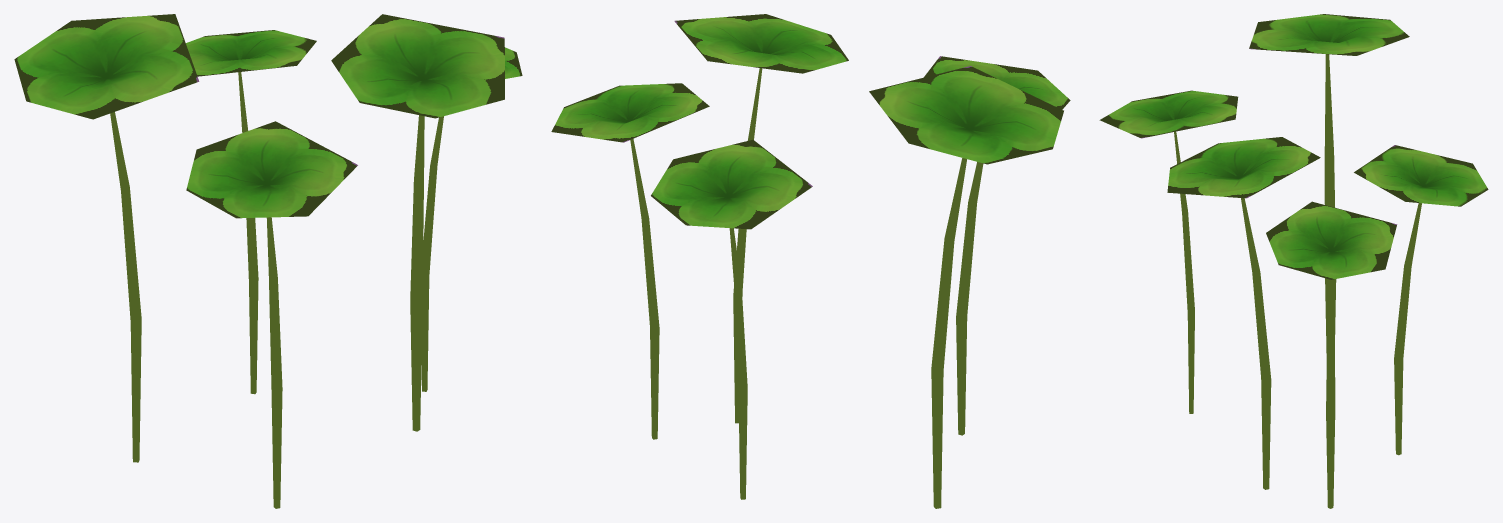
Rendered from flowers_06.fbx.
The picture shows the model from 3 angles, left to right: view 1: azimuth 30°, elevation 25°; view 2: azimuth 150°, elevation 25°; view 3: azimuth 270°, elevation 25°; orthographic projection. The views are drawn at different scales.
Parts seen in each view (by area): view 1: flowers_06; view 2: flowers_06; view 3: flowers_06.
Boxes of the visible parts, x1,y1,x2,y2 form: flowers_06: (14, 14, 522, 508); flowers_06: (551, 14, 1070, 508); flowers_06: (1099, 14, 1488, 508).
Size of the model in its own units: 74.11 by 60.49 by 59.98.
